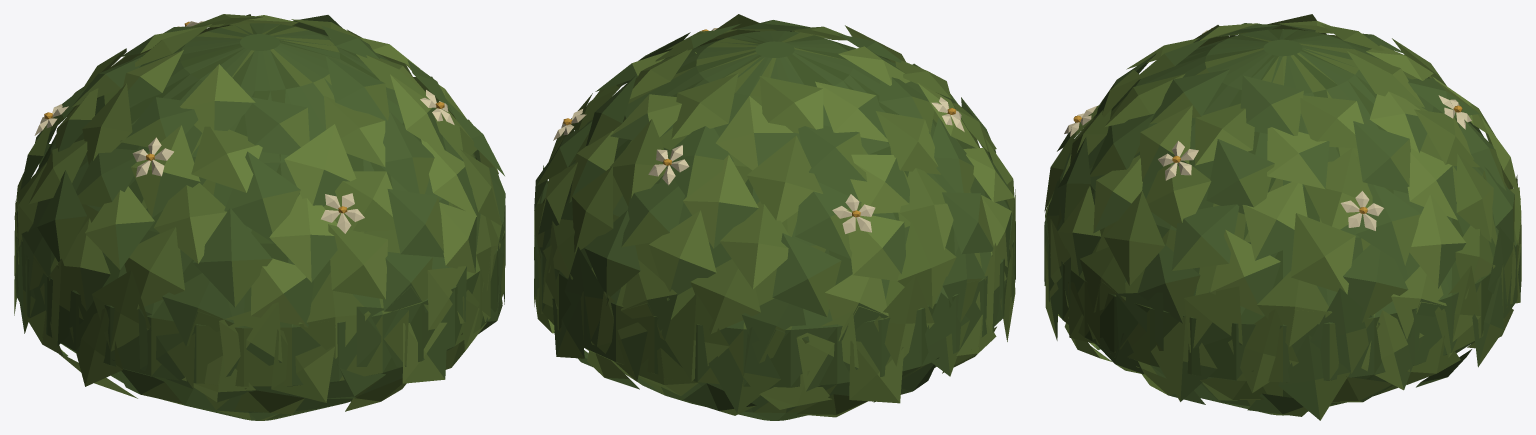
Rendered from shrub_round.glb.
3 renders of one model, left to right at view 1: azimuth 30°, elevation 25°; view 2: azimuth 150°, elevation 25°; view 3: azimuth 270°, elevation 25°, orthographic. The views are drawn at different scales.
Visible parts, largest first — view 1: body; view 2: body; view 3: body.
Part boxes in pixels (box(x1,y1,x2,y2)): body: box(14, 14, 505, 420); body: box(534, 14, 1015, 420); body: box(1044, 14, 1521, 420).
Size of the model in its own units: 1.1 by 0.9 by 1.1.
